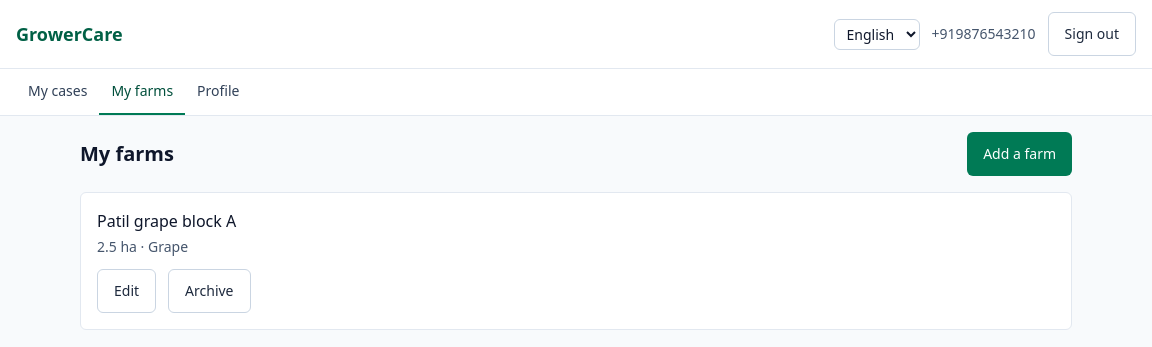
Test case: SPEC-FE-02 R105 farms (PRD J3) › FE-E105 archiving asks first, then the farm is gone
Click the button with aria-label "Archive Patil grape block A": (209, 291) [168,269,251,313]
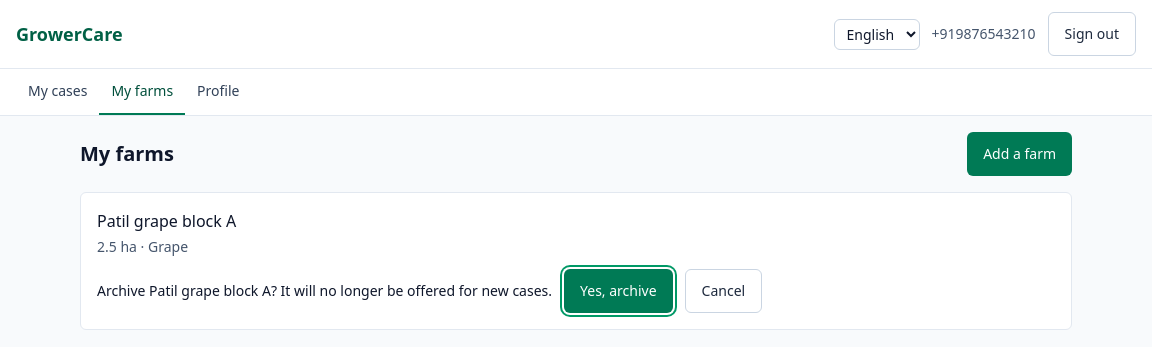
Check: the text "no longer be offered" is shown, box [97,281,552,300]
Click the button "Yes, archive": (618, 291) [564,269,673,313]
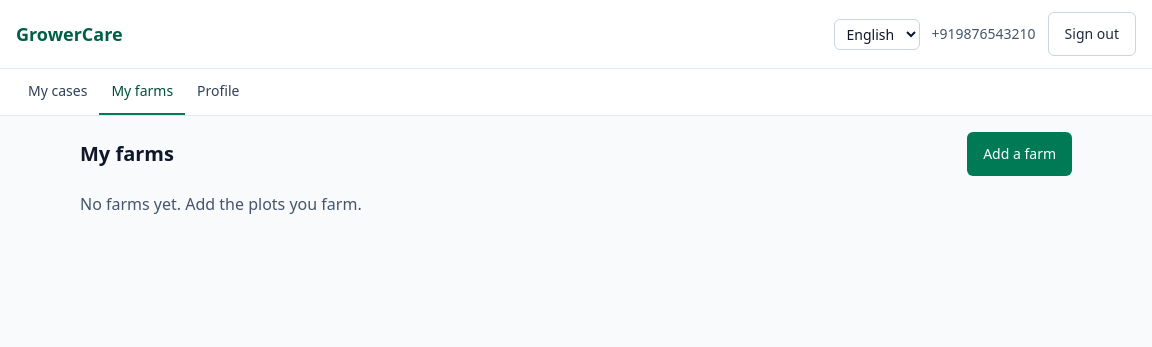
Check: the text "No farms yet. Add the plots you farm." is shown, box [80,193,362,215]
